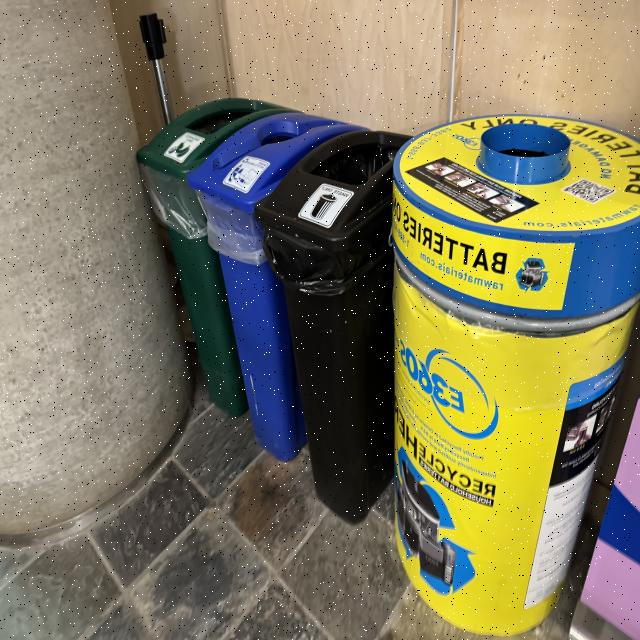Dustbin: (131, 100, 412, 525)
